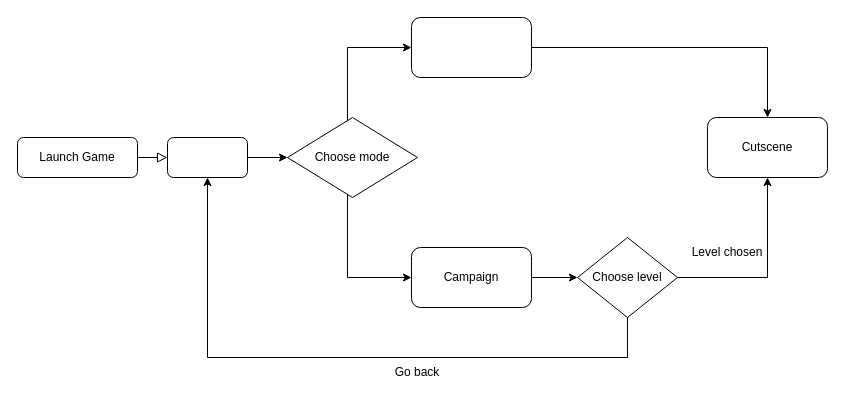
Image size: 845x405. Some labels were removed from this diagram. Each missing label, with the centre of its shape:
Endless: the point at 471,47
Menu: the point at 207,157
